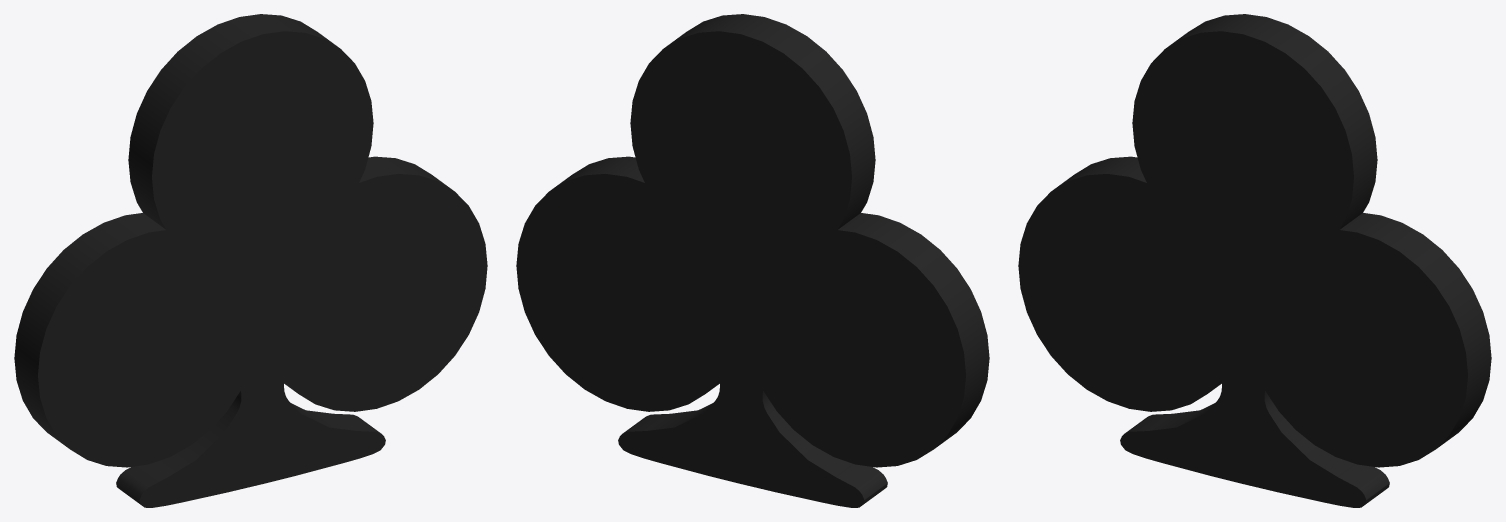
File: club_suit.glb
3 renders of one model, left to right at view 1: azimuth 30°, elevation 25°; view 2: azimuth 150°, elevation 25°; view 3: azimuth 330°, elevation 25°, orthographic.
Visible parts, largest first — view 1: Plane.315; view 2: Plane.315; view 3: Plane.315.
Part boxes in pixels (x1,y1,x2,y2): Plane.315: (14,14,487,507); Plane.315: (516,14,989,507); Plane.315: (1018,14,1491,507).
Bounding box in the file's own units: 2.21 × 2.11 × 0.2.
Materials: 1 (1 with a texture image).
